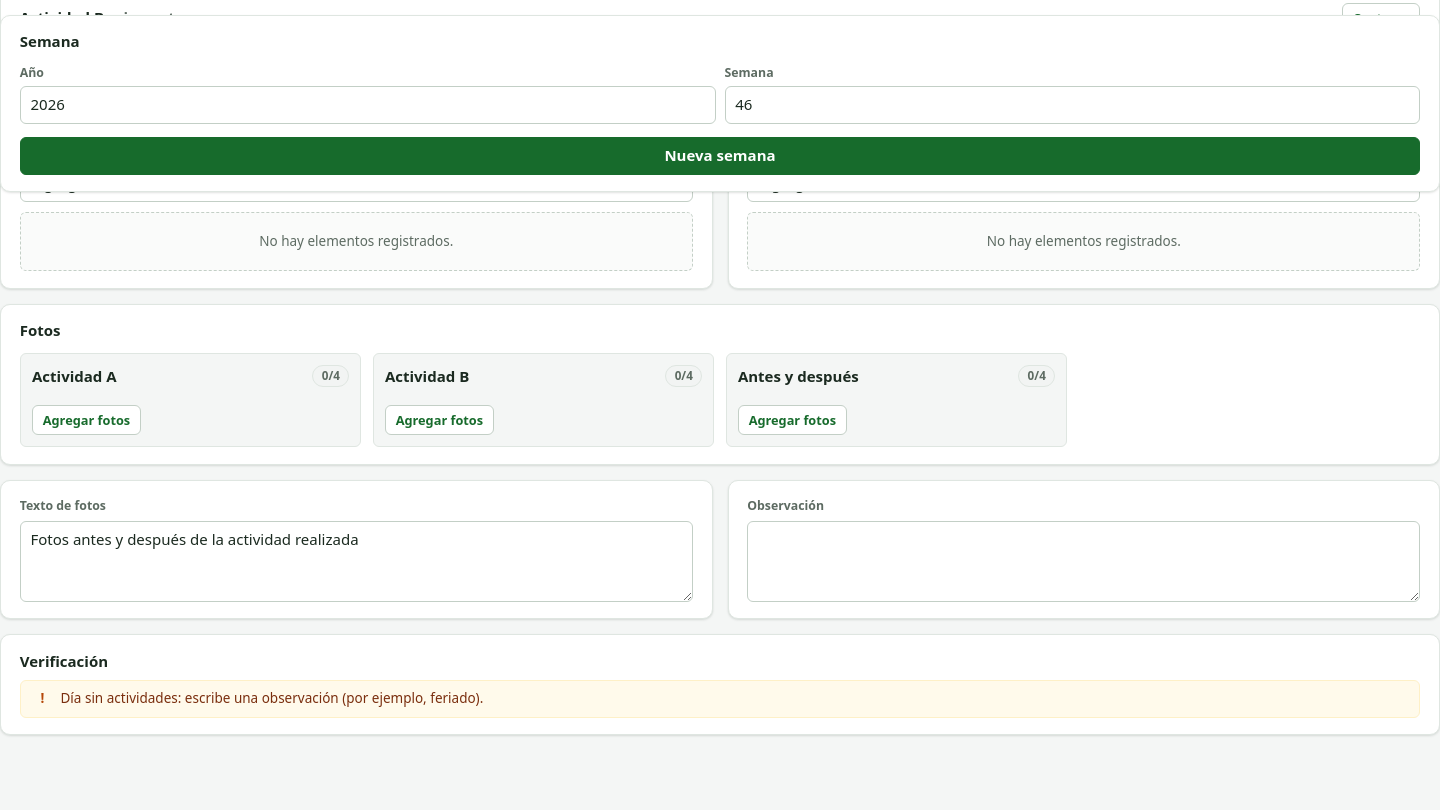
Test: pide confirmación antes de crear otra semana con datos
(page scrolled)
Type "Dato sintético" into the text box labelled "Observación" at [1084, 561], box [747,521,1420,602]
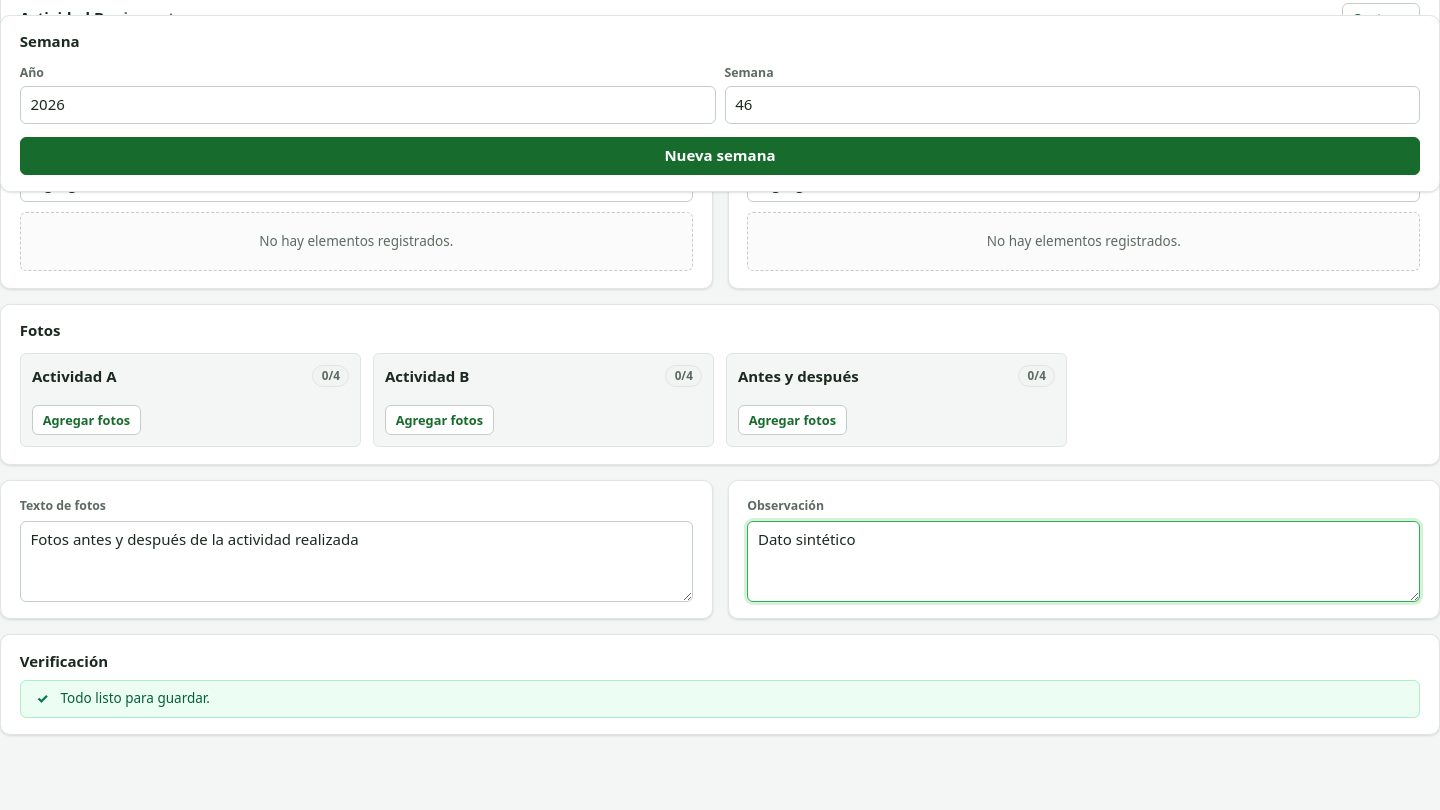
Click the button "Nueva semana" at [720, 156], box [20,137,1420,175]
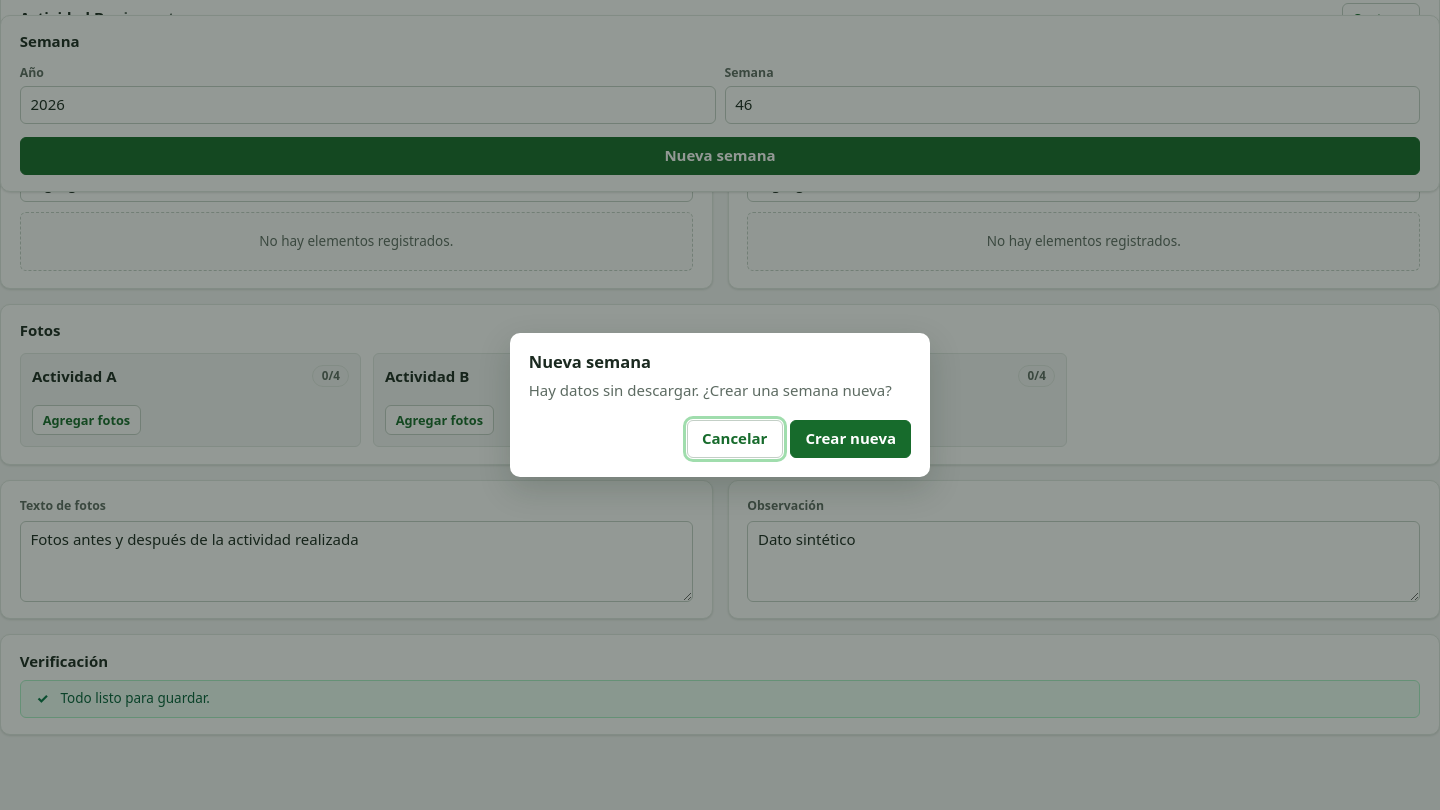
Check: the heading "Nueva semana" is shown, box [529,350,651,373]
Check: the text "Hay datos sin descargar. ¿Crear una semana nueva?" is shown, box [529,380,911,402]
